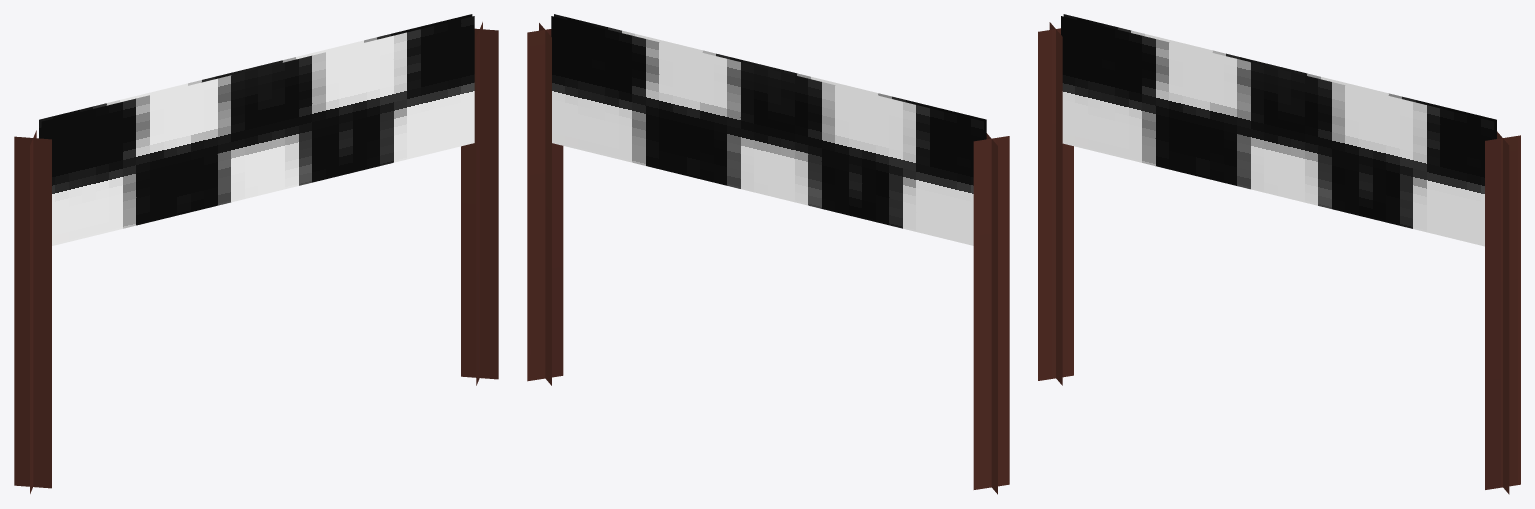
The model's file is finish.glb.
3 renders of one model, left to right at view 1: azimuth 30°, elevation 25°; view 2: azimuth 150°, elevation 25°; view 3: azimuth 330°, elevation 25°, orthographic.
Visible parts, largest first — view 1: Plane; view 2: Plane; view 3: Plane.
Part boxes in pixels (x1=…): Plane: x1=14, y1=14, x2=498, y2=493; Plane: x1=527, y1=14, x2=1009, y2=494; Plane: x1=1038, y1=14, x2=1520, y2=494.
Bounding box in the file's own units: 1.97 × 1.46 × 0.1054.
1 material, 1 textured.
